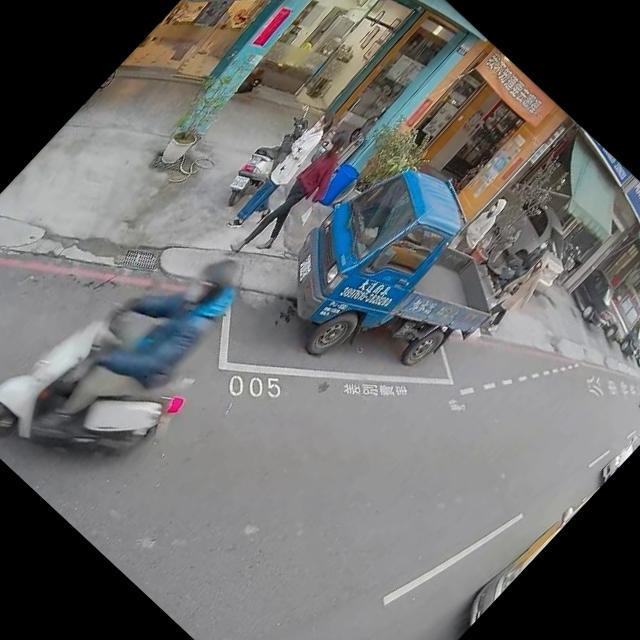person: (0, 208, 225, 472), (220, 116, 374, 276), (216, 105, 346, 241), (470, 244, 566, 344), (446, 191, 514, 262), (490, 234, 552, 300)
